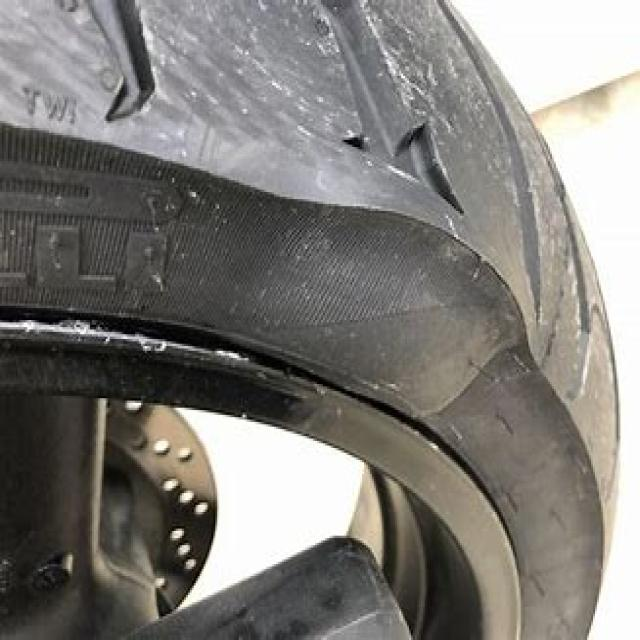Bulge: (235, 170, 562, 431)
